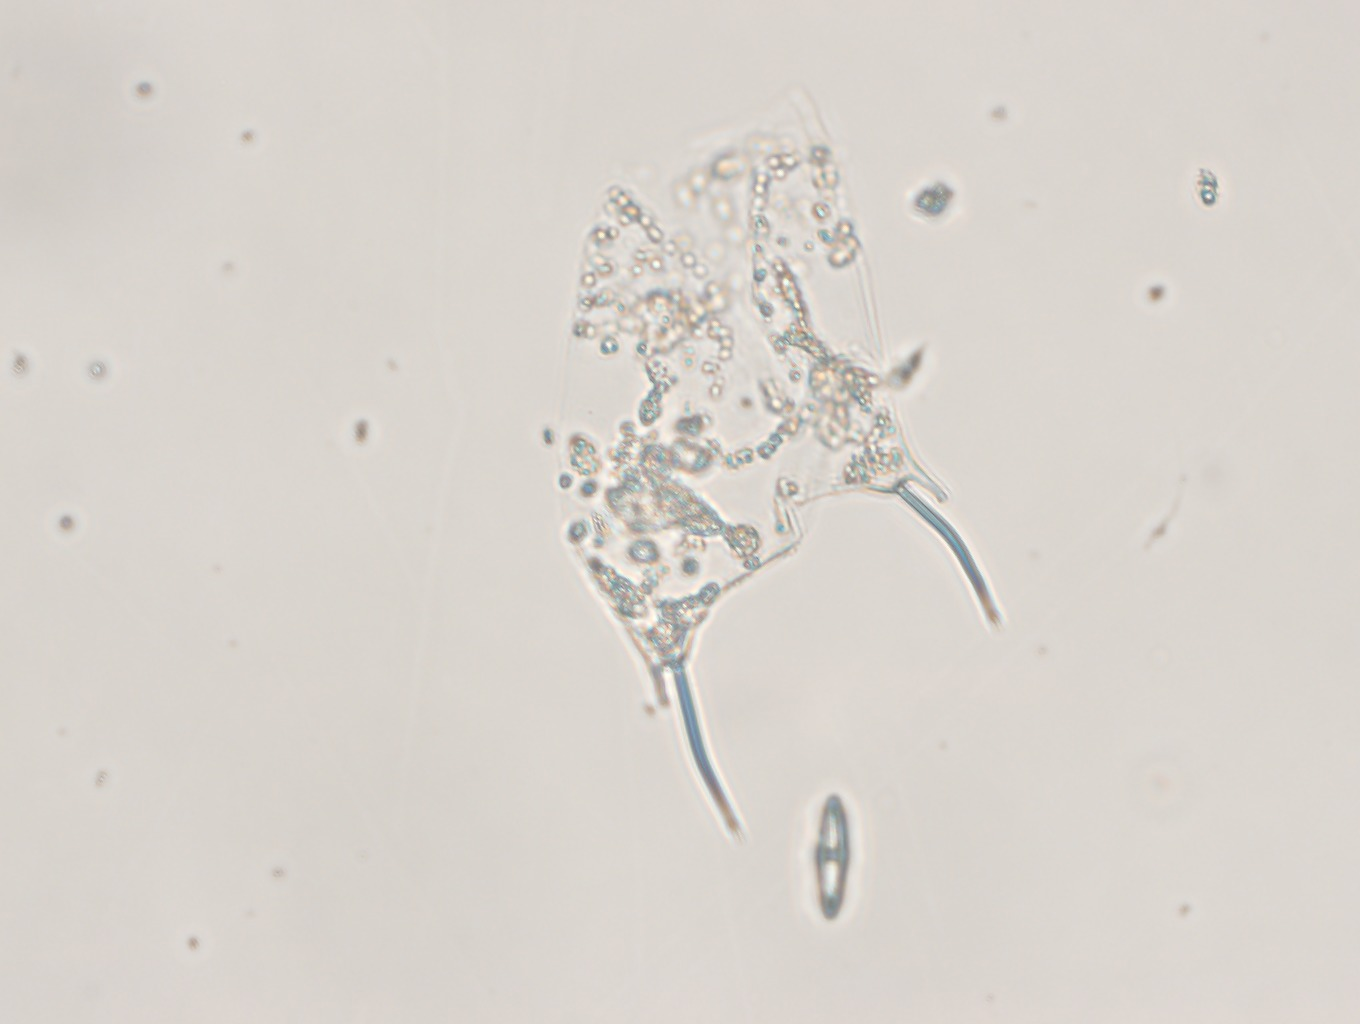biddulphia: (519, 77, 1012, 842)
